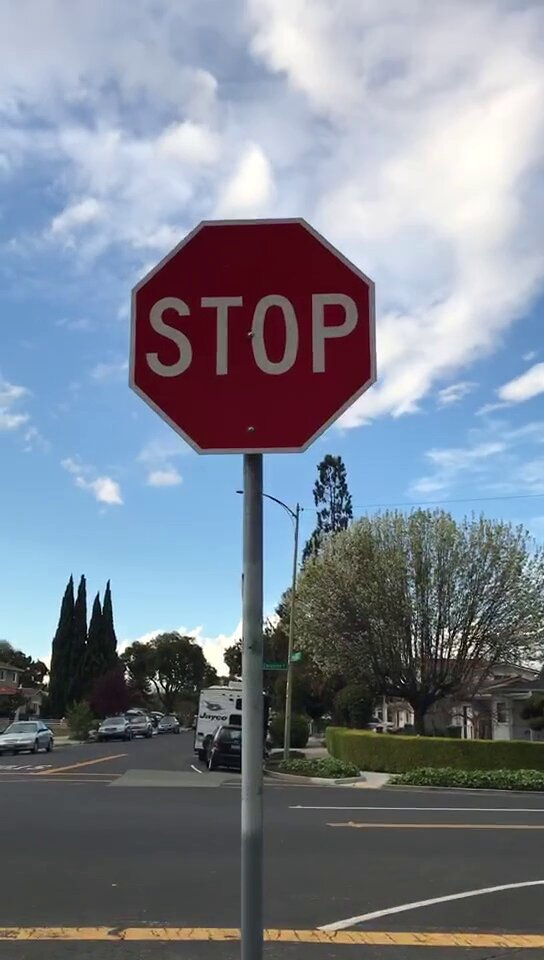stop_sign: (136, 222, 376, 448)
